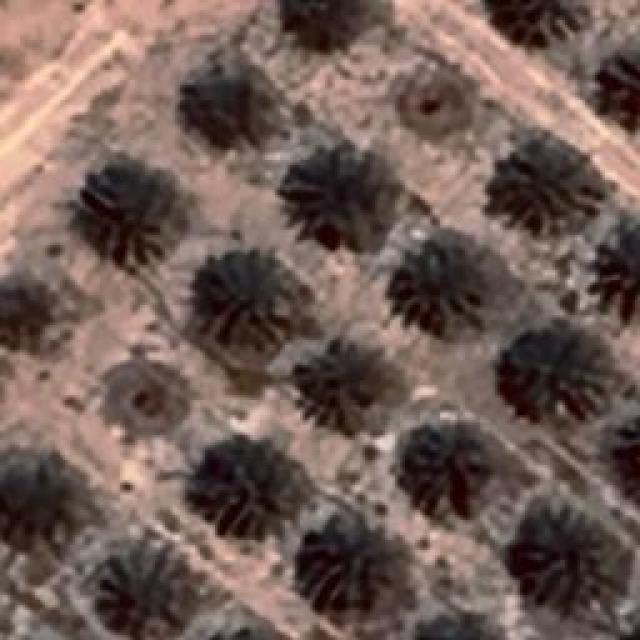PalmTree: (30, 93, 460, 623), (100, 33, 625, 456), (192, 435, 318, 540), (295, 500, 415, 610), (185, 248, 293, 358), (74, 156, 188, 254), (498, 320, 612, 415), (515, 508, 620, 602), (178, 58, 282, 146), (284, 154, 388, 238), (496, 144, 594, 232), (0, 450, 92, 540), (404, 420, 498, 508), (98, 548, 194, 632), (300, 346, 390, 434), (416, 235, 502, 325), (276, 0, 384, 50), (589, 215, 640, 319), (0, 262, 58, 348), (491, 0, 574, 58), (597, 56, 640, 129), (188, 619, 296, 640)
